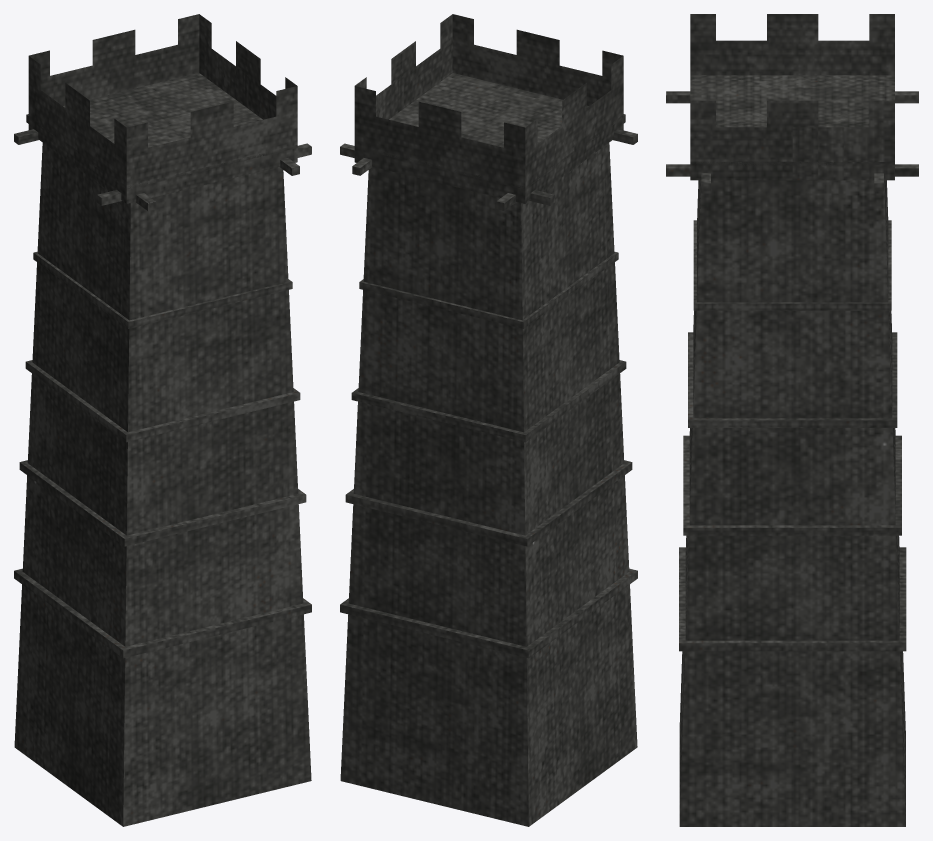
Rendered from obzidje stolp.fbx.
3 renders of one model, left to right at view 1: azimuth 30°, elevation 25°; view 2: azimuth 150°, elevation 25°; view 3: azimuth 270°, elevation 25°, orthographic. The views are drawn at different scales.
Visible parts, largest first — view 1: Cube.008; view 2: Cube.008; view 3: Cube.008.
Part boxes in pixels (x1=…): Cube.008: x1=14, y1=14, x2=311, y2=826; Cube.008: x1=340, y1=14, x2=637, y2=826; Cube.008: x1=666, y1=14, x2=918, y2=826.
Size of the model in its own units: 2222 by 7000 by 2222.
1 material, 1 textured.
